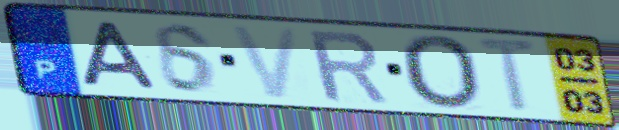6: (150, 23, 222, 95)
A: (77, 19, 162, 91)
O: (396, 33, 483, 113)
R: (303, 28, 393, 106)
T: (473, 35, 545, 116)
V: (227, 23, 303, 101)
